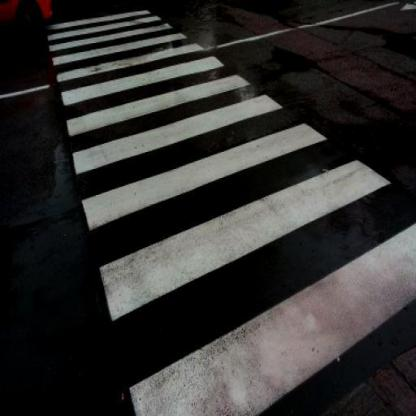crosswalk: (70, 90, 330, 238)
